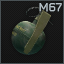M67 Hand grenade: (0, 0, 64, 64)
